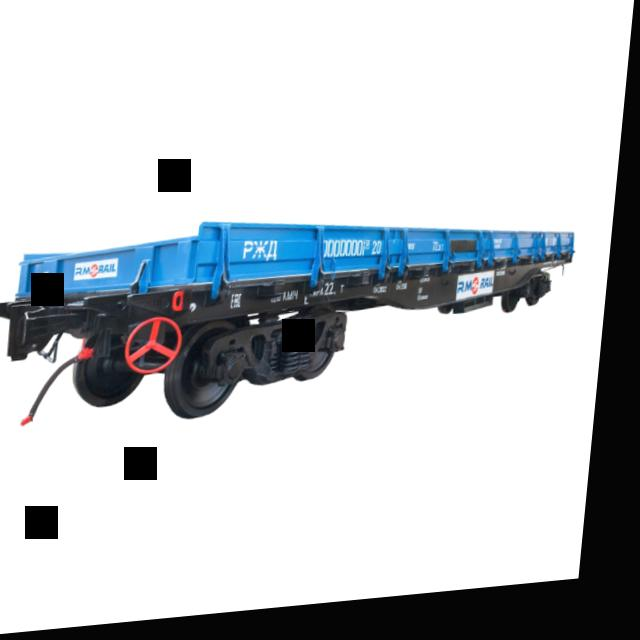flatcar: (3, 263, 581, 447)
